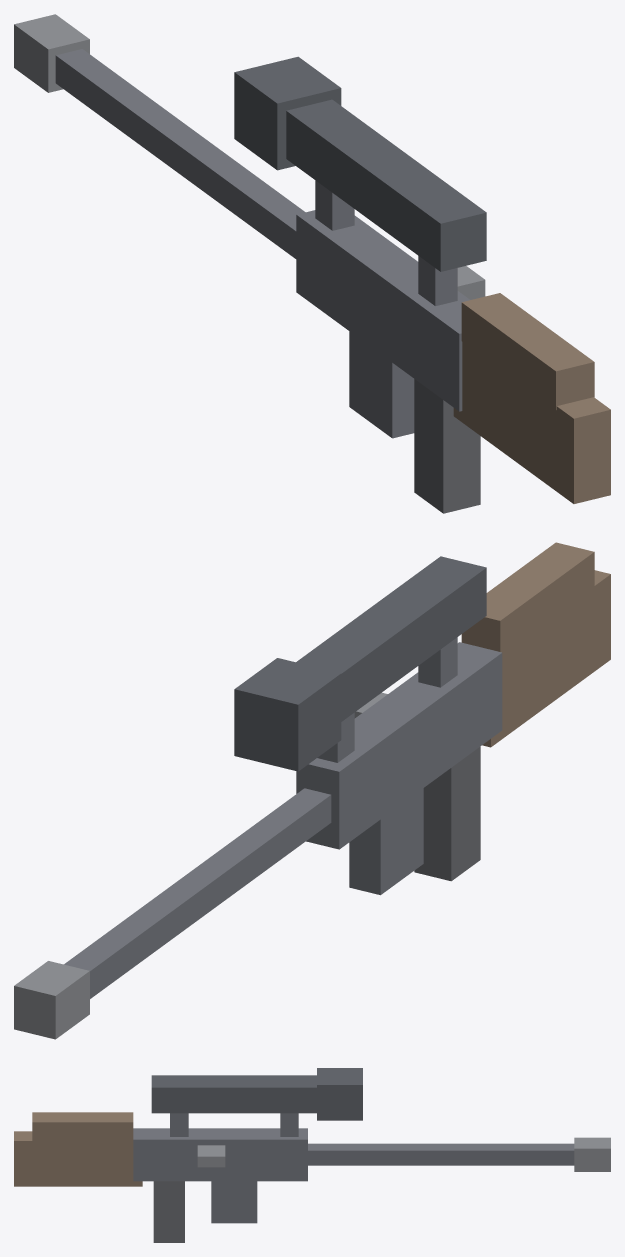
The model's file is sniper.glb.
The picture shows the model from 3 angles, top to bottom: view 1: azimuth 30°, elevation 25°; view 2: azimuth 150°, elevation 25°; view 3: azimuth 270°, elevation 25°; orthographic projection. The views are drawn at different scales.
Visible parts, largest first — view 1: receiver, scope_tube, stock, barrel, comb, scope_objective, grip, magazine, muzzle_brake, scope_mount_rear, scope_mount_front, bolt_handle; view 2: receiver, scope_tube, barrel, scope_objective, stock, comb, grip, magazine, muzzle_brake, scope_mount_rear, scope_mount_front; view 3: receiver, scope_tube, barrel, stock, comb, scope_objective, magazine, grip, muzzle_brake, bolt_handle, scope_mount_front, scope_mount_rear.
Part boxes in pixels (x1,y1,x2,y2): receiver: [296, 210, 469, 411]; scope_tube: [286, 99, 486, 271]; stock: [453, 342, 610, 503]; barrel: [55, 49, 305, 258]; comb: [461, 293, 594, 409]; scope_objective: [234, 56, 341, 170]; grip: [414, 379, 480, 513]; magazine: [349, 331, 414, 438]; muzzle_brake: [14, 14, 89, 92]; scope_mount_rear: [418, 256, 457, 306]; scope_mount_front: [315, 180, 354, 230]; bolt_handle: [457, 266, 485, 299]; receiver: [296, 642, 502, 849]; scope_tube: [296, 556, 486, 721]; barrel: [64, 788, 331, 998]; scope_objective: [234, 658, 341, 771]; stock: [482, 570, 610, 747]; comb: [461, 542, 594, 657]; grip: [414, 746, 480, 881]; magazine: [349, 788, 423, 895]; muzzle_brake: [14, 961, 89, 1039]; scope_mount_rear: [418, 637, 457, 687]; scope_mount_front: [317, 712, 354, 762]; receiver: [133, 1128, 307, 1181]; scope_tube: [151, 1075, 316, 1113]; barrel: [308, 1143, 574, 1165]; stock: [14, 1131, 142, 1186]; comb: [32, 1112, 133, 1142]; scope_objective: [317, 1068, 362, 1120]; magazine: [211, 1181, 257, 1223]; grip: [153, 1181, 184, 1242]; muzzle_brake: [574, 1137, 610, 1171]; bolt_handle: [197, 1145, 225, 1167]; scope_mount_front: [280, 1113, 298, 1136]; scope_mount_rear: [170, 1113, 188, 1136].
Bounding box in the file's own units: 0.13 × 0.388 × 1.3.
